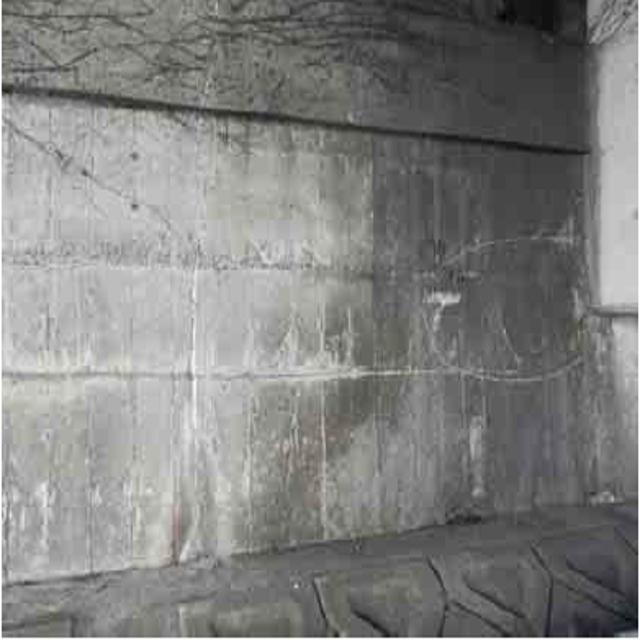spalling: (334, 10, 632, 529)
